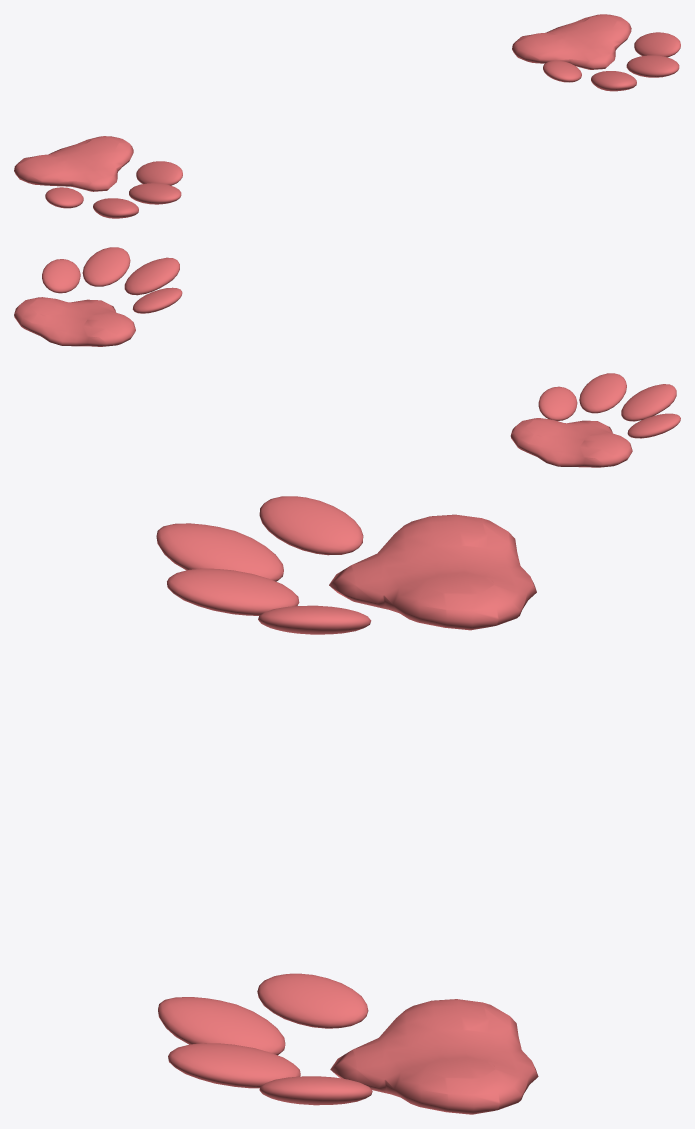
File: dawg back beans.fbx
The picture shows the model from 3 angles, top to bottom: view 1: azimuth 30°, elevation 25°; view 2: azimuth 150°, elevation 25°; view 3: azimuth 270°, elevation 25°; orthographic projection. The views are drawn at different scales.
Parts seen in each view (by area): view 1: back dawg.004, back dawg.003; view 2: back dawg.004, back dawg.003; view 3: back dawg.004, back dawg.003.
Boxes of the visible parts, bbox=[...] form: back dawg.004: bbox=[14, 136, 182, 218]; back dawg.003: bbox=[512, 14, 680, 91]; back dawg.004: bbox=[510, 373, 680, 467]; back dawg.003: bbox=[14, 247, 182, 346]; back dawg.004: bbox=[156, 496, 536, 634]; back dawg.003: bbox=[158, 973, 538, 1114].
Size of the model in its own units: 11 by 0.4899 by 2.9.
